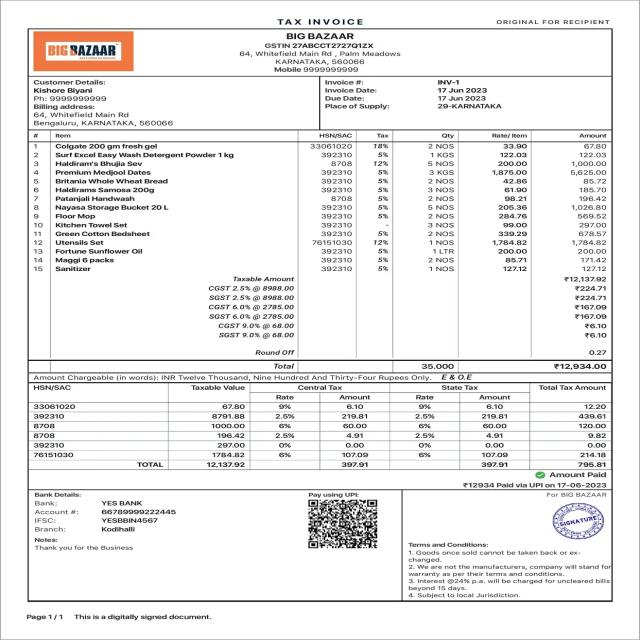QRCode: (306, 498, 379, 550)
